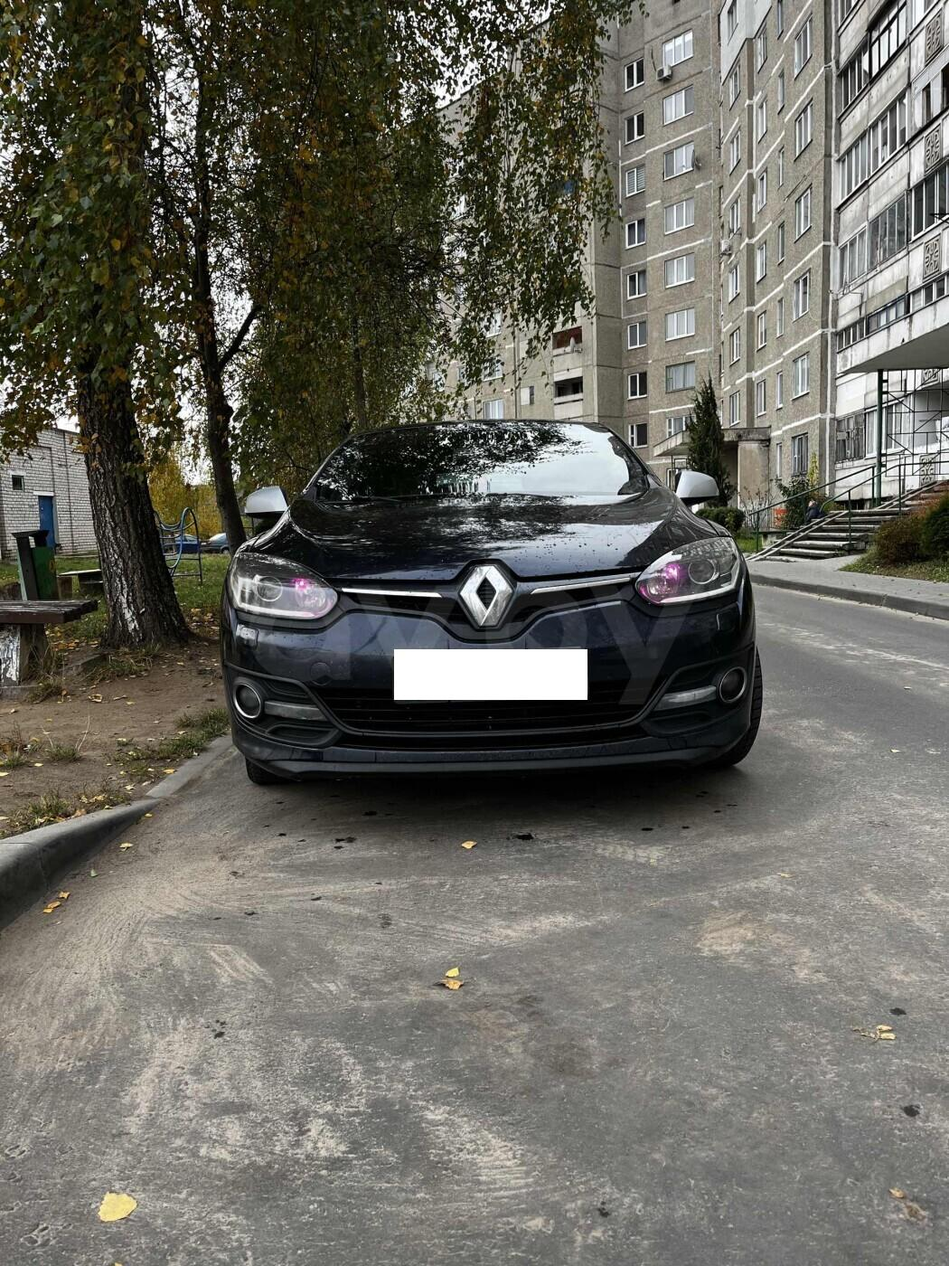Megane_2008-2014: (222, 416, 763, 792)
